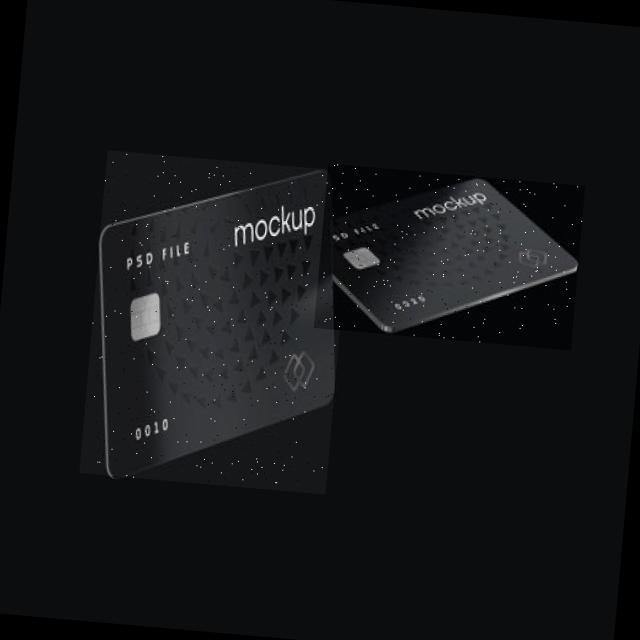payment_card: (81, 151, 337, 487), (332, 179, 576, 336)
